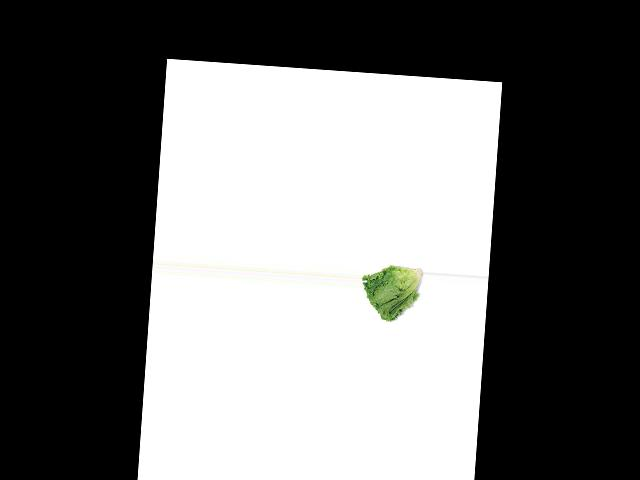lettuce: (359, 259, 425, 328)
